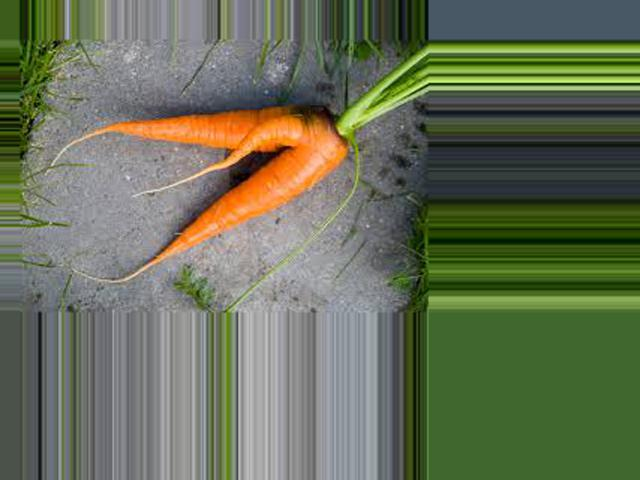carrot: (57, 80, 318, 179)
